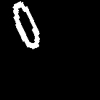chain: (13, 2, 39, 48)
